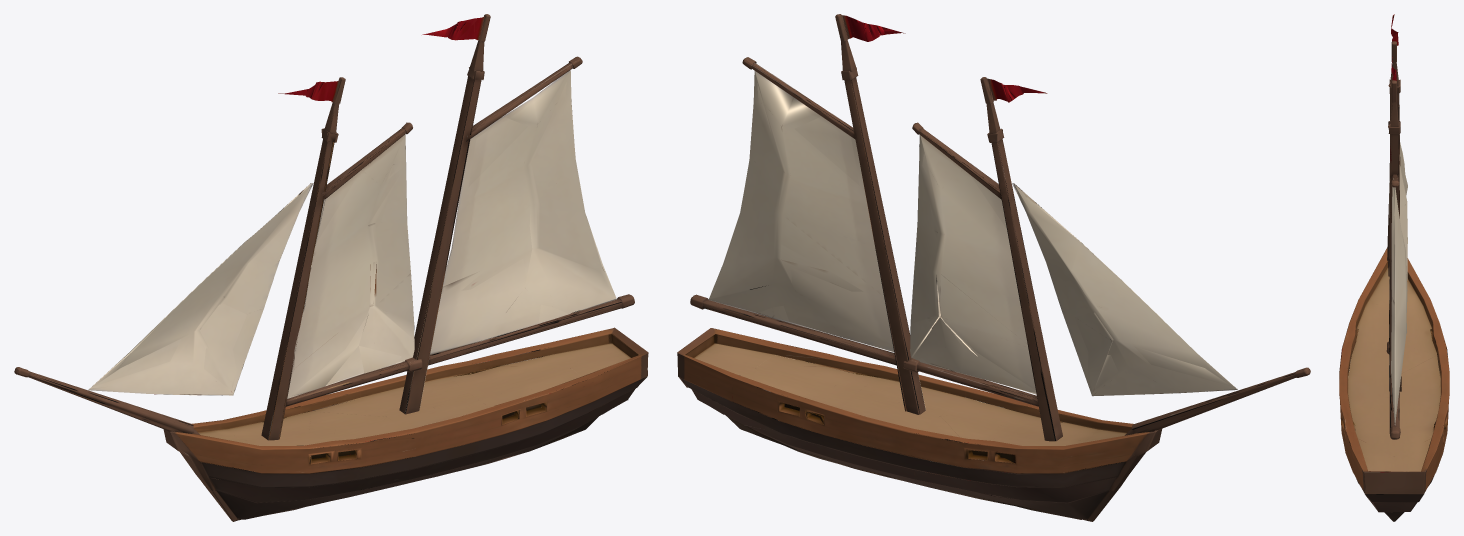
The model's file is schooner.glb.
3 views of the same model, side by side, from view 1: azimuth 30°, elevation 25°; view 2: azimuth 150°, elevation 25°; view 3: azimuth 270°, elevation 25° (orthographic). The views are drawn at different scales.
Visible parts, largest first — view 1: geometry_0; view 2: geometry_0; view 3: geometry_0.
Part boxes in pixels (<box>): geometry_0: <box>14,14,648,521</box>; geometry_0: <box>677,14,1310,521</box>; geometry_0: <box>1339,14,1449,521</box>.
Bounding box in the file's own units: 0.958 × 0.6606 × 0.1636.
1 material, 1 textured.
